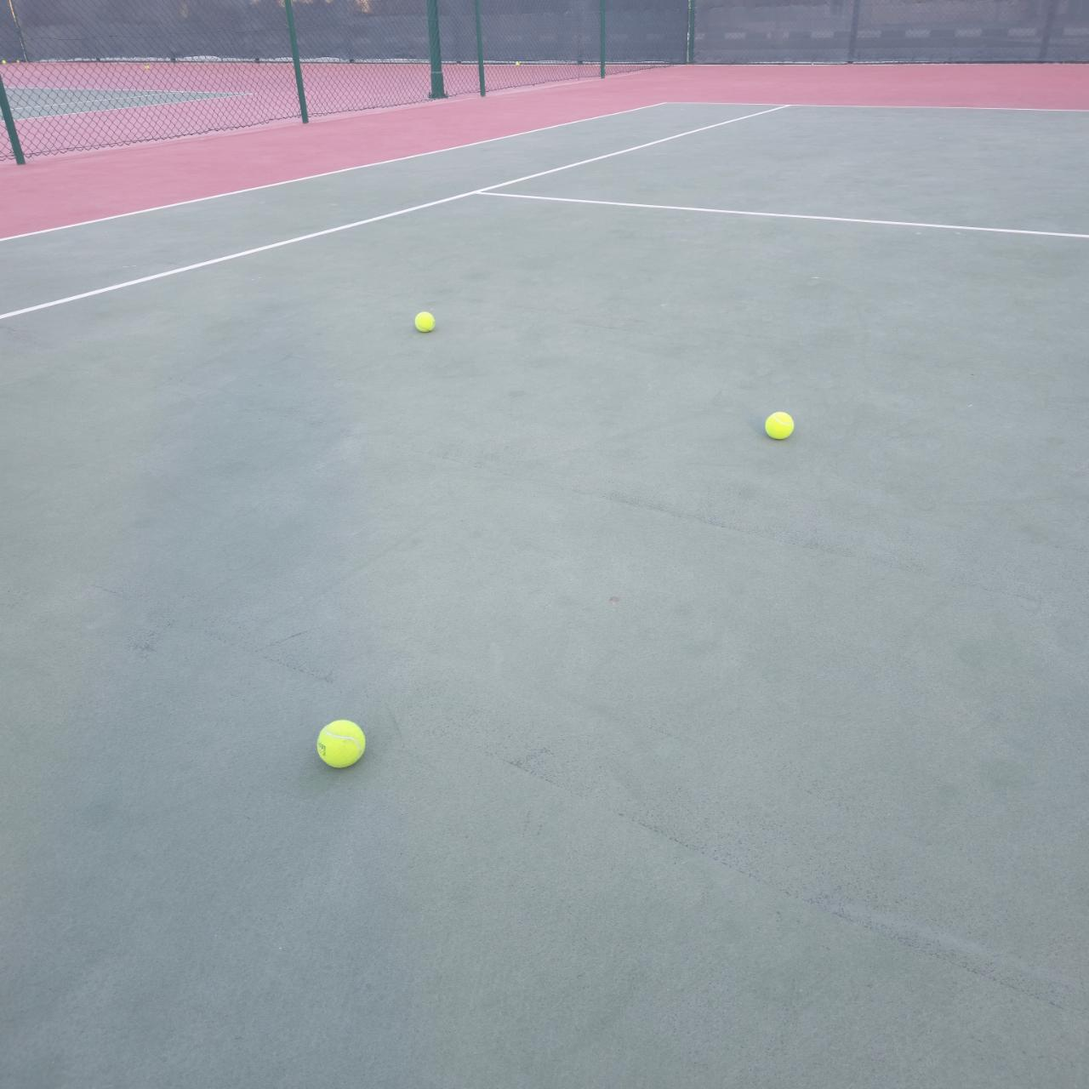tennis-ball: (314, 716, 367, 769), (762, 408, 795, 440), (412, 309, 436, 333)
